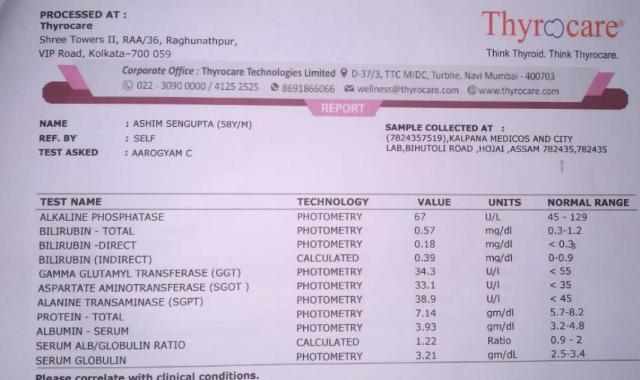Name: (132, 117, 255, 131)
Ref_By: (132, 133, 157, 143)
Reference_Range: (543, 209, 595, 361)
Technology: (291, 209, 371, 366)
Test_Asked: (127, 148, 195, 160)
Test_Name: (32, 209, 259, 369)
Unit: (477, 209, 531, 363)
Value: (407, 210, 453, 364)
